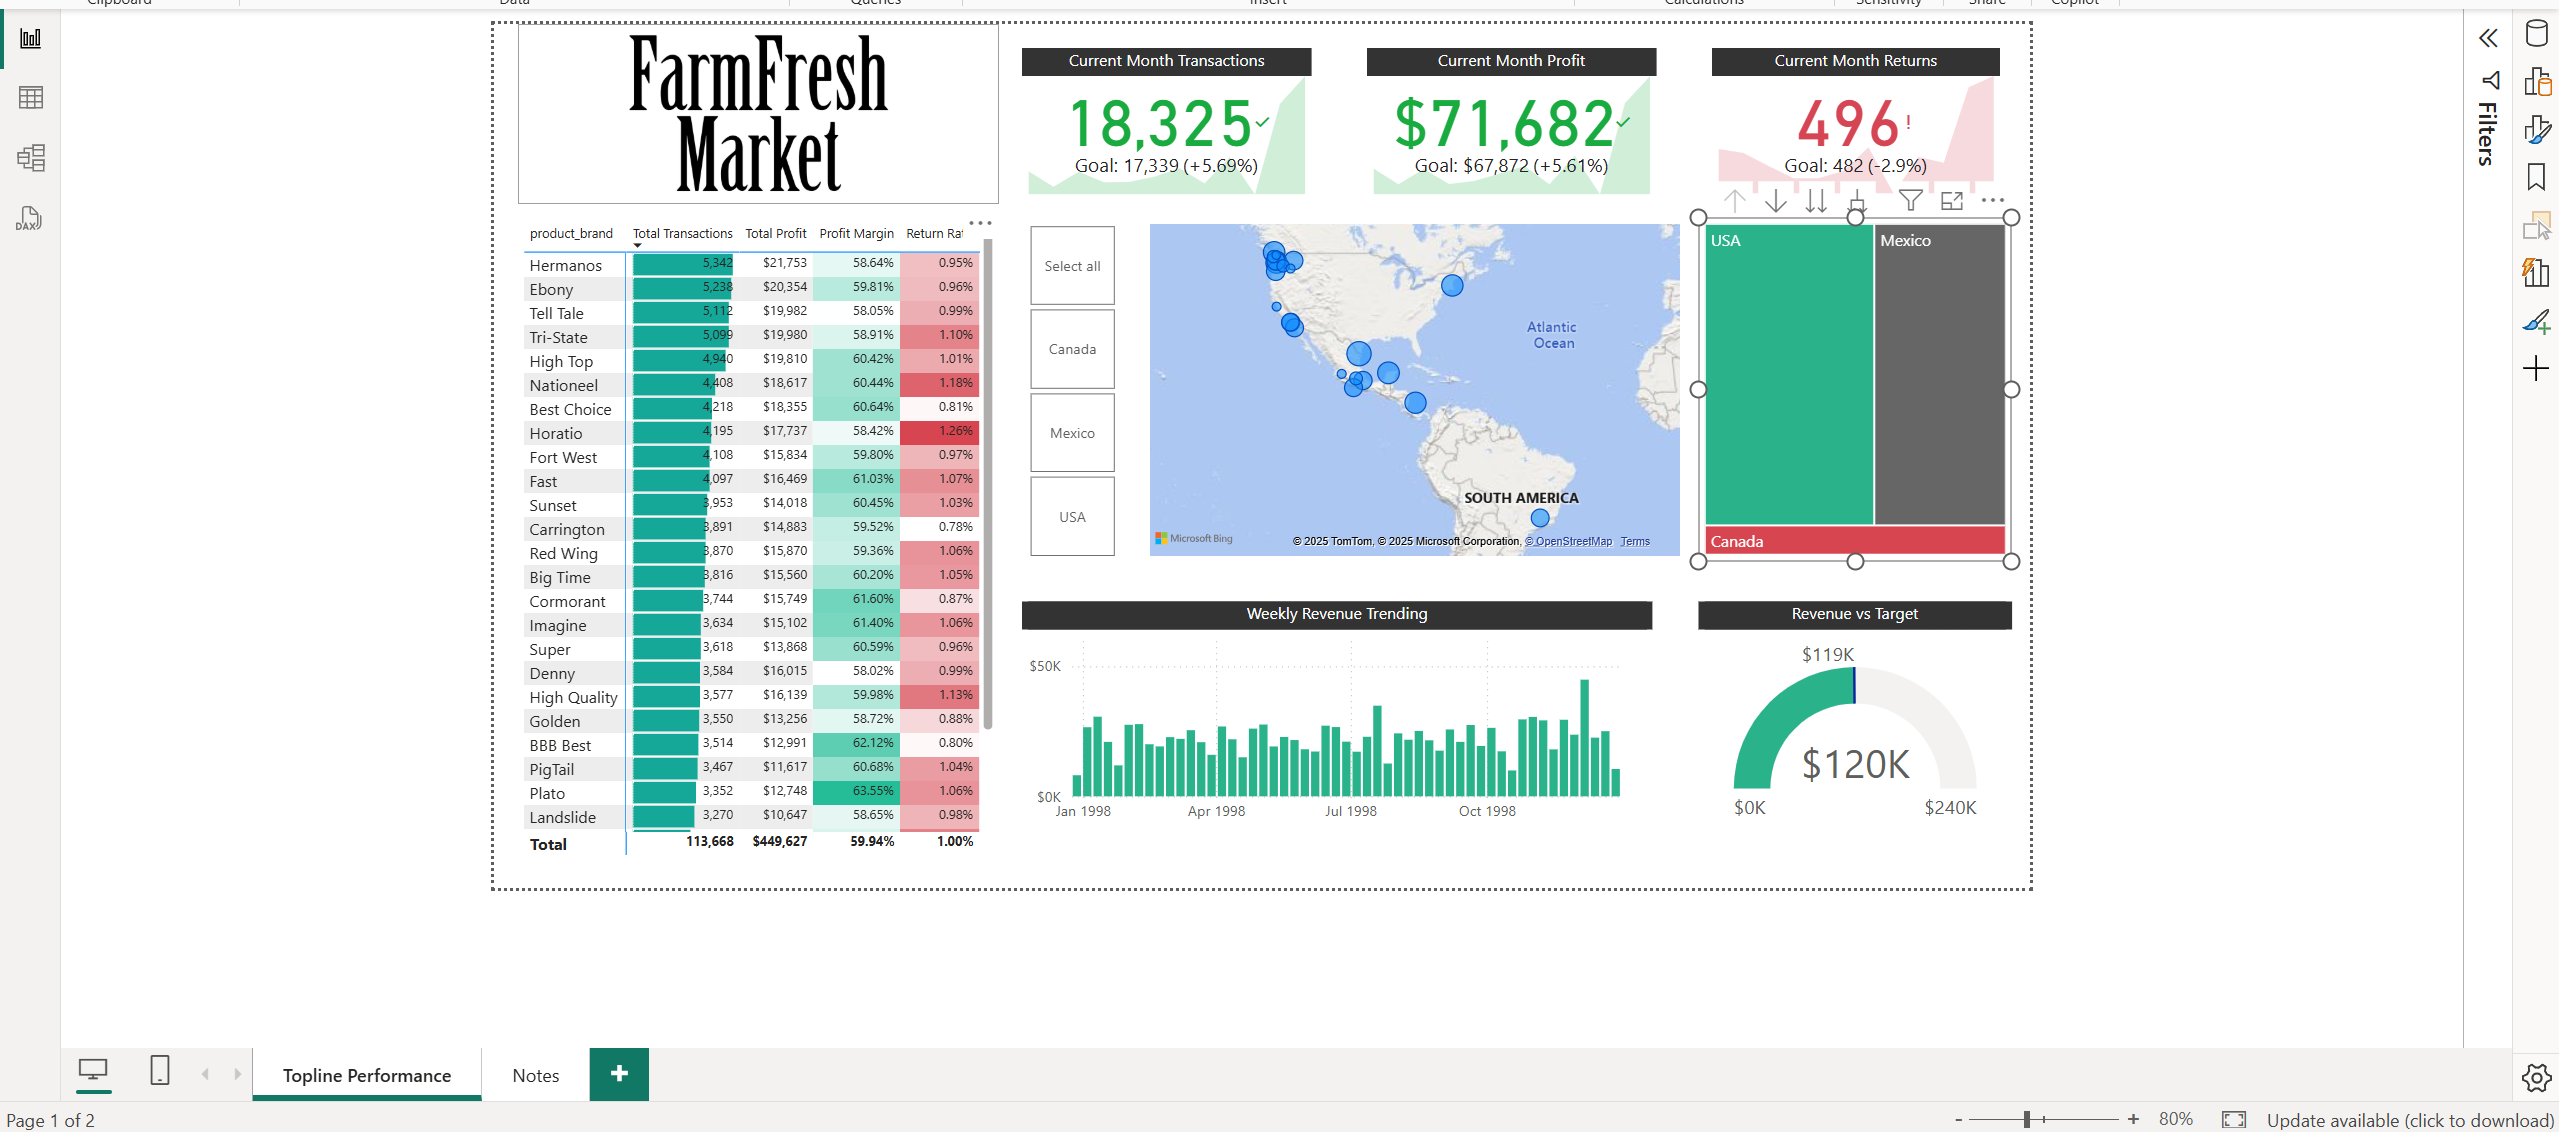

What the dashboard file says about the page in this screenshot:
{"tool":"powerbi","page":{"name":"Topline Performance","canvas":[1280,720],"ordinal":0},"visuals":[{"type":"pivotTable","fields":{"Rows":["Products.product_brand"],"Values":["Transaction_Data.Total Transactions","Transaction_Data.Total Profit","Transaction_Data.Profit Margin","Returns_Data.Return Rate"]},"box":[20,161,401,536],"z":0},{"type":"kpi","title":" Current Month Transactions","fields":{"Indicator":["Transaction_Data.Total Transactions"],"TrendLine":["Calendar.Start of Month"],"Goal":["Transaction_Data.Last Month Transactions"]},"box":[440,20,241.1,126.7],"z":1000},{"type":"kpi","title":" Current Month Returns","fields":{"TrendLine":["Calendar.Start of Month"],"Indicator":["Returns_Data.Total Returns"],"Goal":["Returns_Data.Last Month Returns"]},"box":[1015,20,240,126.2],"z":2000},{"type":"kpi","title":" Current Month Profit","fields":{"TrendLine":["Calendar.Start of Month"],"Indicator":["Transaction_Data.Total Profit"],"Goal":["Transaction_Data.Last Month profit"]},"box":[727.5,20,241.1,126.7],"z":3000},{"type":"map","fields":{"Category":["Stores.store_city"],"Size":["Transaction_Data.Total Transactions"]},"box":[541.1,161.1,452.2,286.7],"z":4000},{"type":"slicer","fields":{"Values":["Stores.store_country"]},"box":[421.1,161.1,120,288.9],"z":5000},{"type":"columnChart","title":"Weekly Revenue Trending","fields":{"Category":["Calendar.Start of Week"],"Y":["Transaction_Data.Total Revenue"]},"box":[440,481.1,525.6,192.2],"z":6000},{"type":"treemap","fields":{"Group":["Stores.store_country","Stores.store_state","Stores.store_city"],"Values":["Transaction_Data.Total Transactions"]},"box":[1003.8,161.2,261.2,286.2],"z":7000},{"type":"gauge","title":"Revenue vs Target","fields":{"Y":["Transaction_Data.Total Revenue"],"TargetValue":["Transaction_Data.Revenue Target"]},"box":[1004,481,261,192],"z":8000},{"type":"image","box":[20,0,401,150],"z":9000}]}

Visuals, with their boxes on the page's 1280x720 design canvas (x1, y1, x2, y2). These are canvas units, not pixel positions in the 2559x1132 screenshot, which may show the page scaled, cropped or inside an application window:
pivotTable - Products.product_brand x Transaction_Data.Total Transactions: [20,161,421,697]
" Current Month Transactions" kpi: [440,20,681,147]
" Current Month Returns" kpi: [1015,20,1255,146]
" Current Month Profit" kpi: [728,20,969,147]
map - Stores.store_city x Transaction_Data.Total Transactions: [541,161,993,448]
slicer - Stores.store_country: [421,161,541,450]
"Weekly Revenue Trending" columnChart: [440,481,966,673]
treemap - Stores.store_country x Stores.store_state: [1004,161,1265,447]
"Revenue vs Target" gauge: [1004,481,1265,673]
image: [20,0,421,150]
